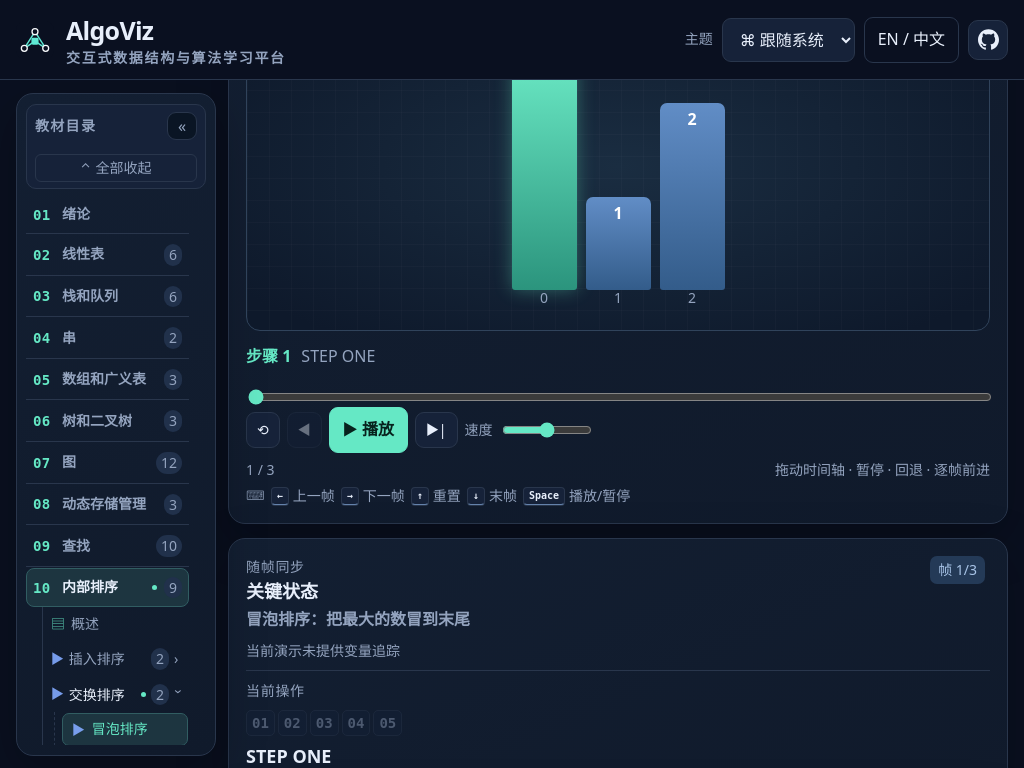
App UI regression (Phase 1) › keeps play / pause / rewind / step / scrub behaviour
The image size is (1024, 768).
(page scrolled)
Expected: the text with test id "progress" reads "1 / 3", x1=246 y1=460 x2=274 y2=479
Click the button with test id "next-btn" at (436, 430), box x1=415 y1=412 x2=458 y2=448
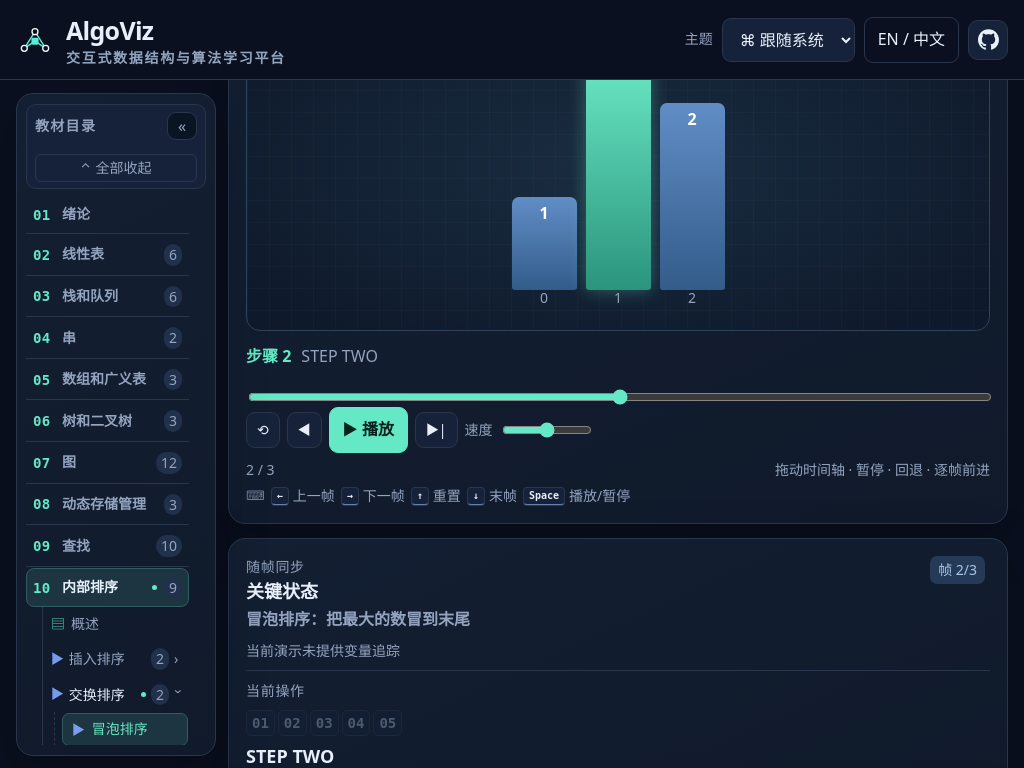
Expected: the text with test id "step-desc" reads "STEP TWO", x1=301 y1=345 x2=378 y2=367
Expected: the text with test id "progress" reads "2 / 3", x1=246 y1=460 x2=274 y2=479
Click the button with test id "prev-btn" at (304, 430), box x1=287 y1=412 x2=322 y2=448
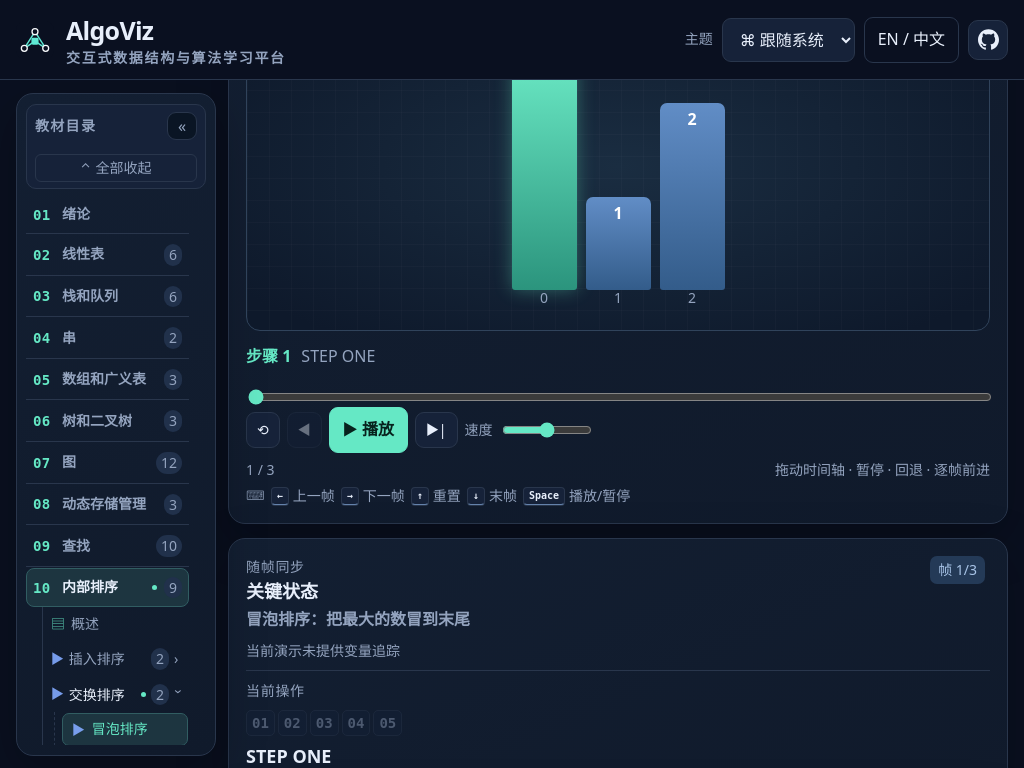
Expected: the text with test id "step-desc" reads "STEP ONE", x1=301 y1=345 x2=375 y2=367
Set the slider with test id "scrub" to "2" at (984, 397), box x1=248 y1=389 x2=992 y2=405
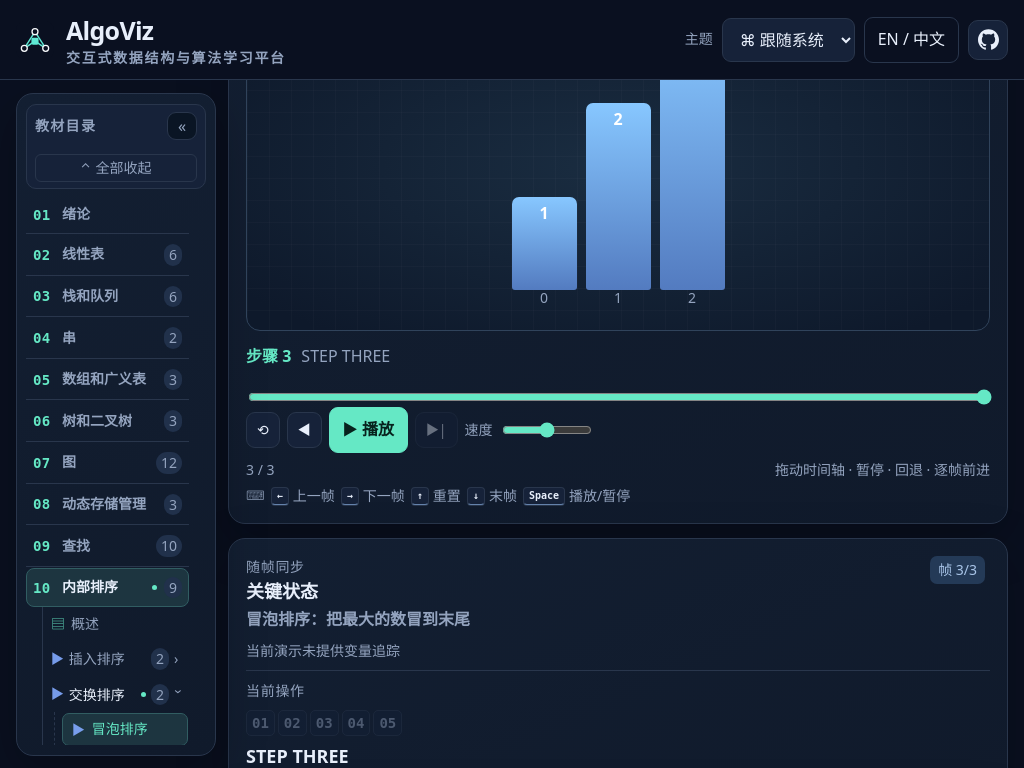
Expected: the text with test id "step-desc" reads "STEP THREE", x1=301 y1=345 x2=390 y2=367
Click the button with test id "play-btn" at (368, 430), box x1=329 y1=407 x2=408 y2=453
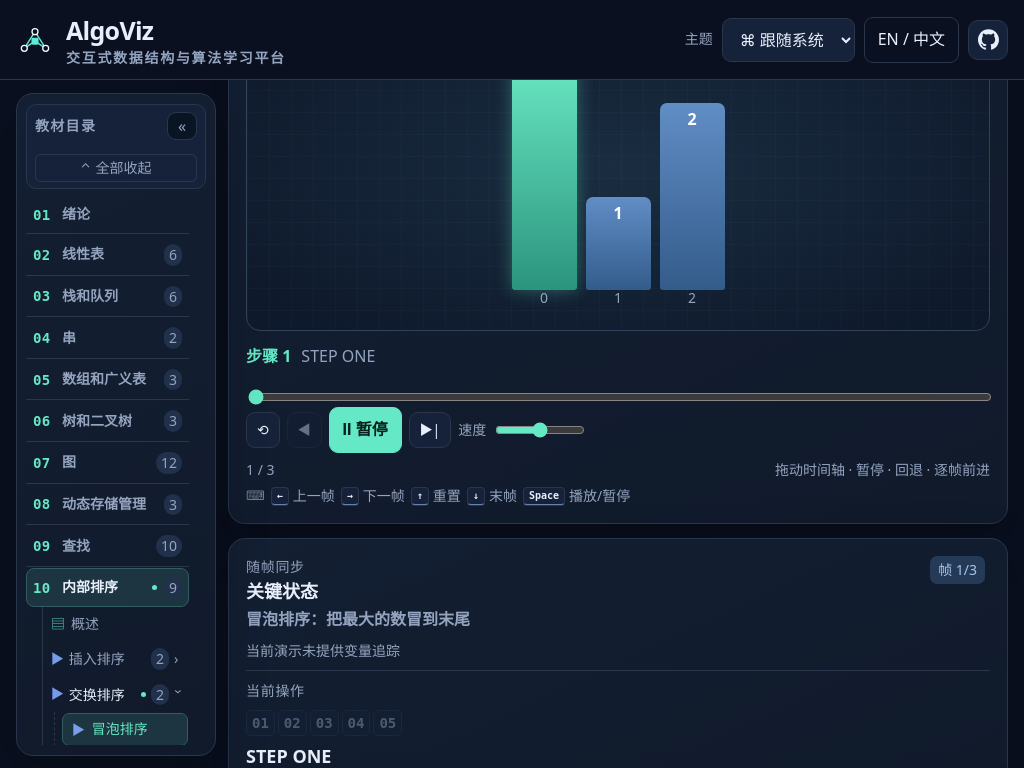
Expected: the button with test id "play-btn" shows "暂停"
Click the button with test id "play-btn" at (365, 430), box x1=329 y1=407 x2=402 y2=453
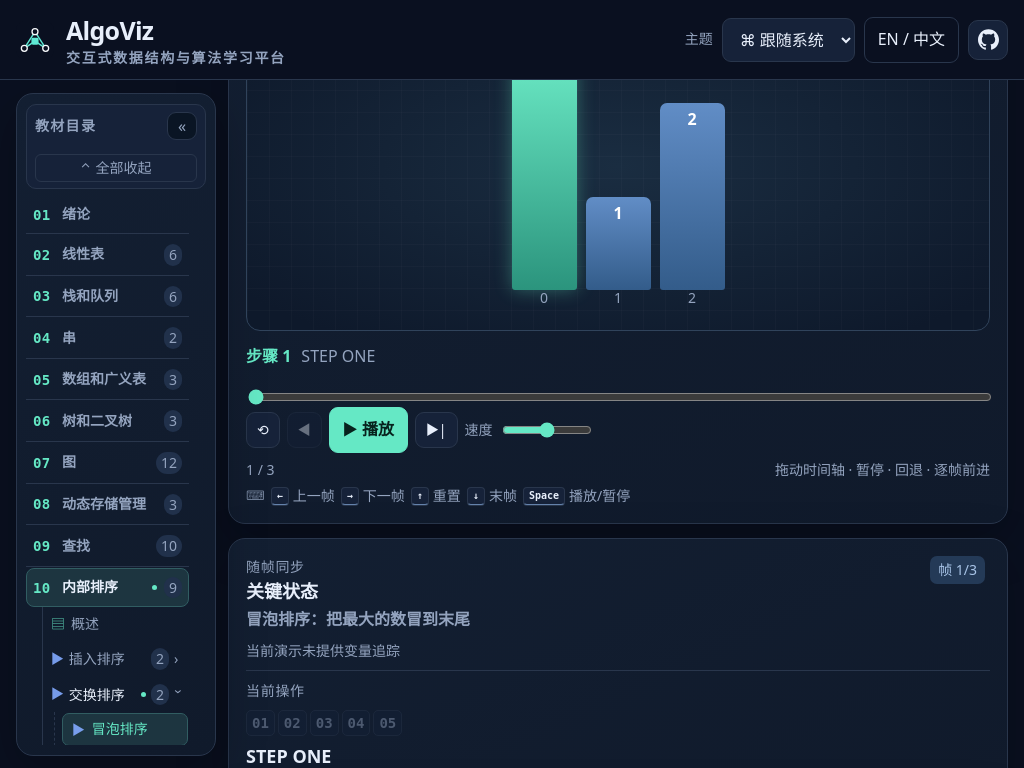
Expected: the button with test id "play-btn" shows "播放", x1=329 y1=407 x2=408 y2=453
